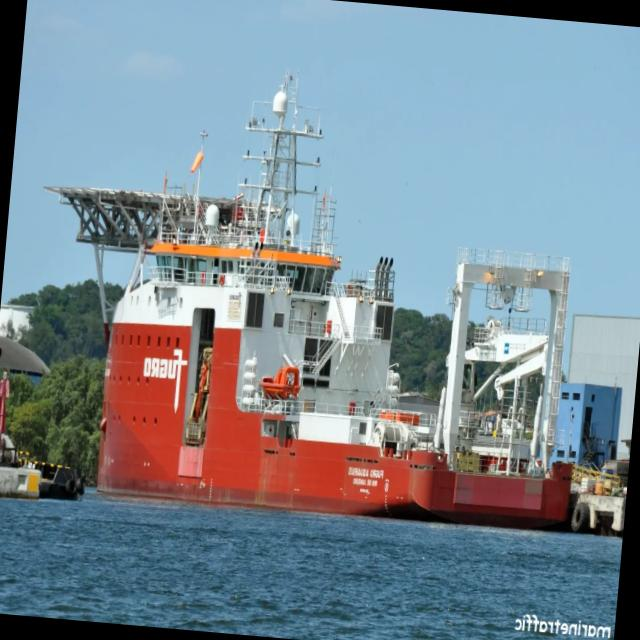Offshore: (49, 75, 571, 528)
